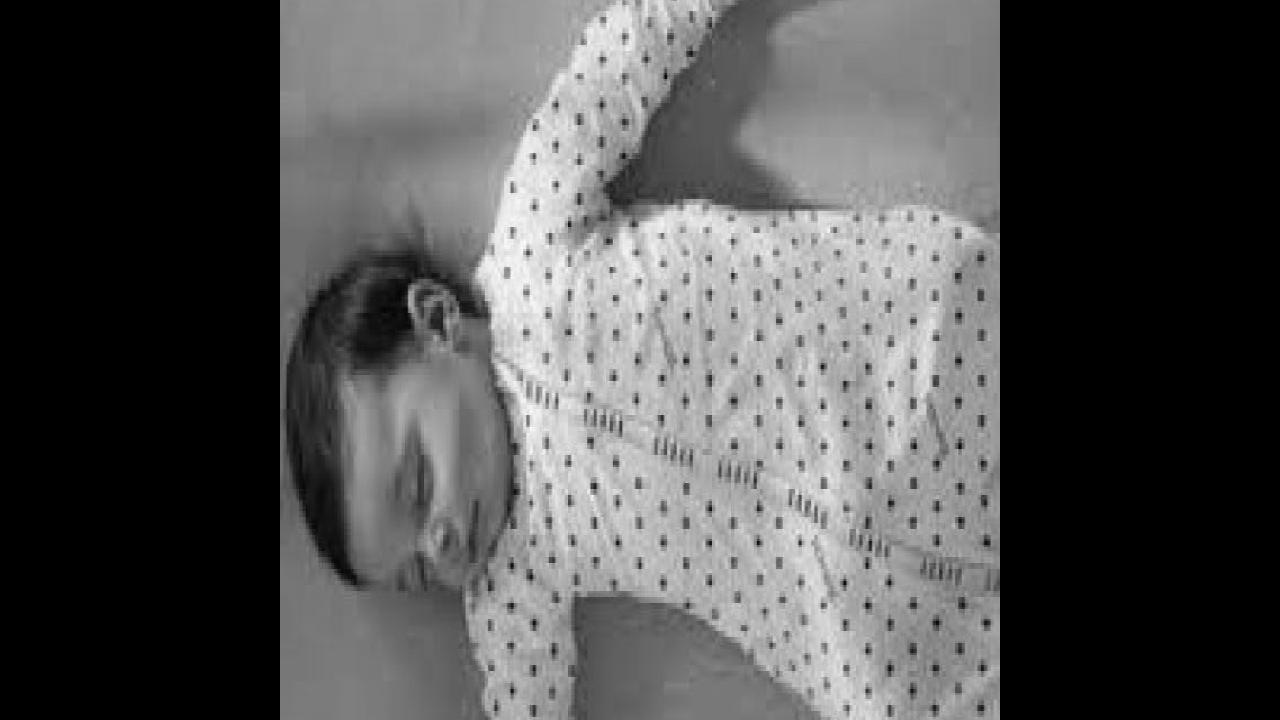hand: (699, 0, 763, 26)
